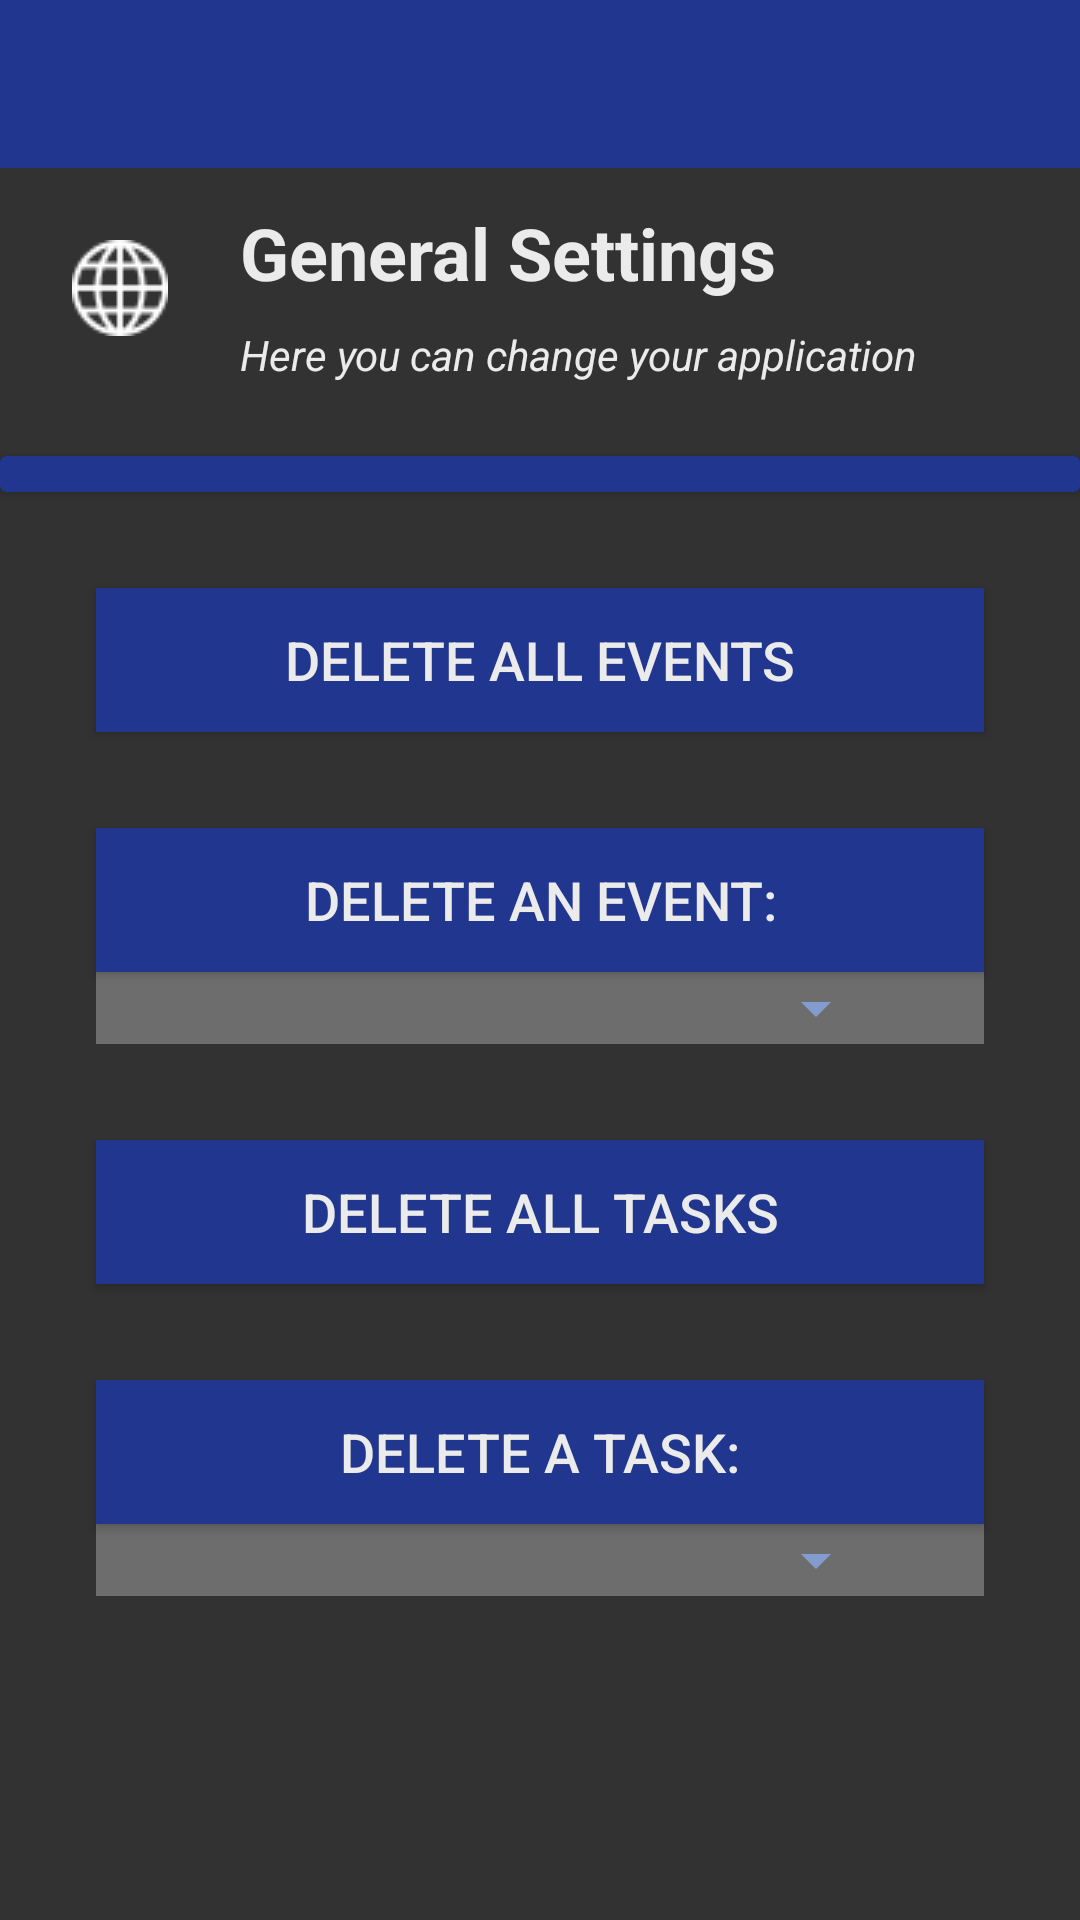

Icons on this 1080w x 1920h Android screen, each with its box as [left=x1, top=y1, right=x2, bottom=y2]:
language: [left=72, top=240, right=168, bottom=336]
